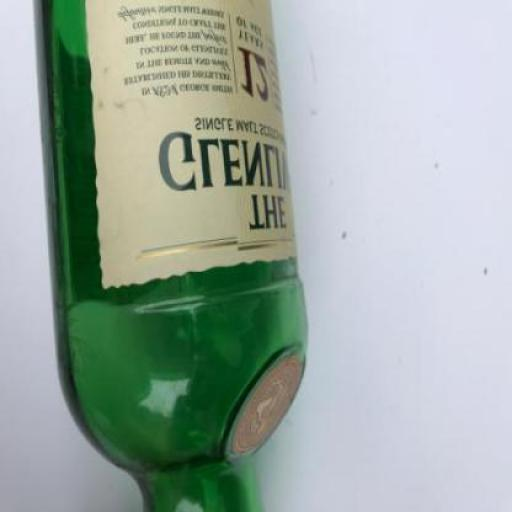glass: (42, 0, 308, 511)
